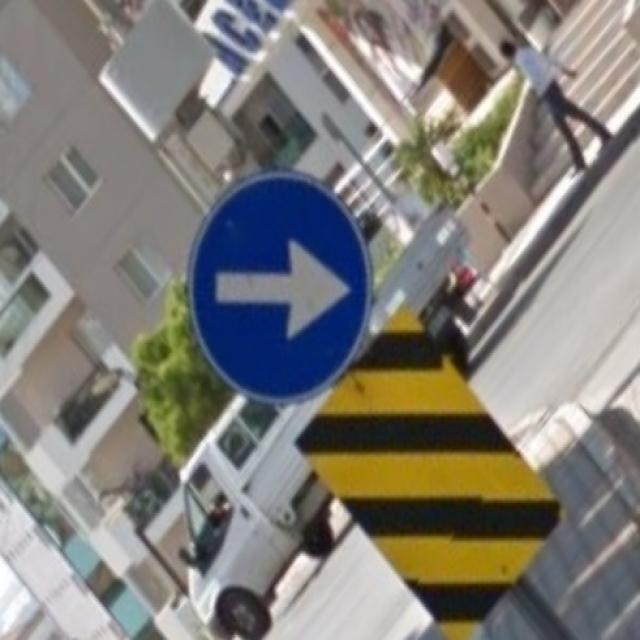Turn Right: (174, 171, 379, 402)
